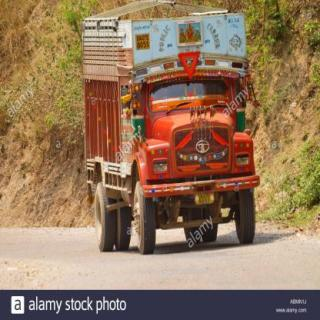Normal_vehicle: (80, 3, 261, 255)
